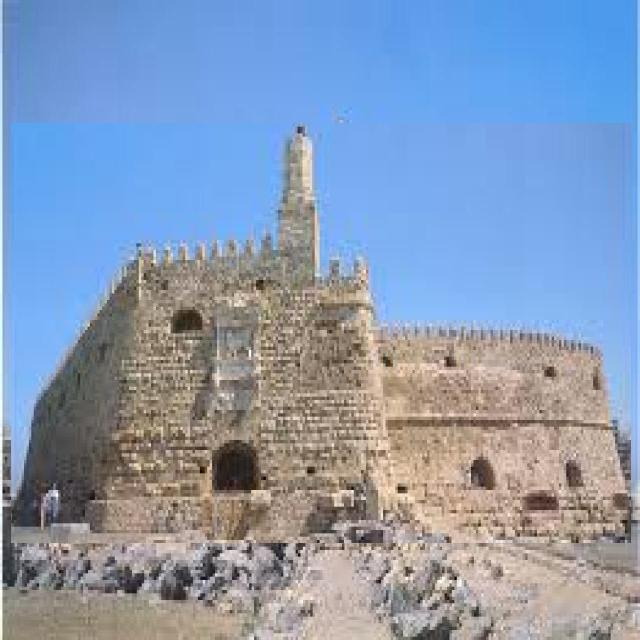Kules: (12, 124, 632, 544)
